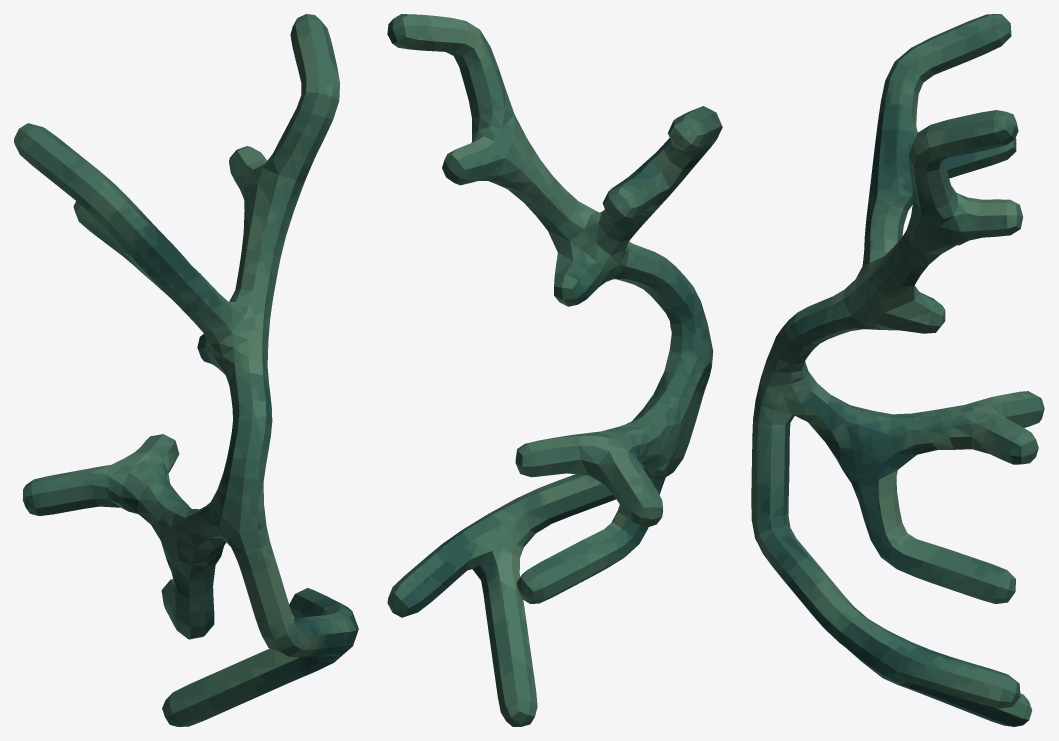
The model's file is Nervenstrang V1.fbx.
The picture shows the model from 3 angles, left to right: view 1: azimuth 30°, elevation 25°; view 2: azimuth 150°, elevation 25°; view 3: azimuth 270°, elevation 25°; orthographic projection.
Parts seen in each view (by area): view 1: Nervenstrang V1; view 2: Nervenstrang V1; view 3: Nervenstrang V1.
Boxes of the visible parts, x1,y1,x2,y2 form: Nervenstrang V1: [14, 14, 358, 726]; Nervenstrang V1: [387, 14, 722, 726]; Nervenstrang V1: [751, 14, 1044, 726].
Bounding box in the file's own units: 93.04 × 77.26 × 196.
Materials: 1 (1 with a texture image).
